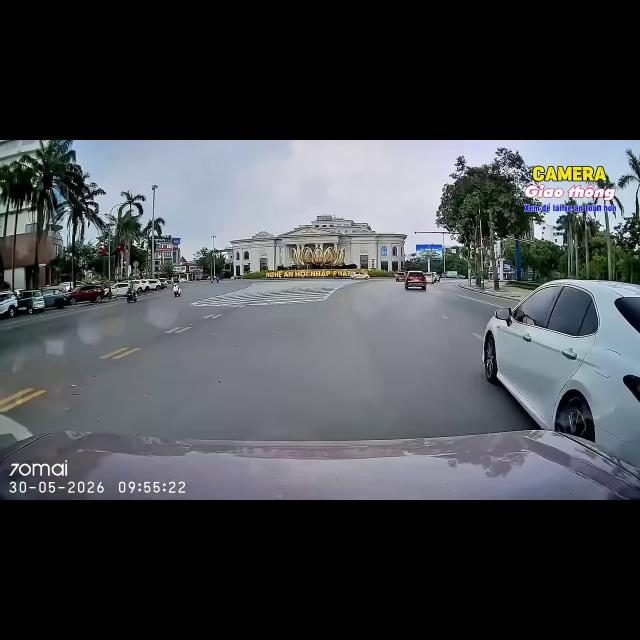car: (0, 430, 639, 499), (483, 280, 639, 463), (67, 285, 104, 304), (18, 290, 44, 314), (42, 287, 66, 308), (0, 291, 17, 317), (405, 271, 426, 290), (110, 282, 129, 297), (127, 280, 143, 293), (147, 279, 162, 290), (350, 271, 369, 279), (139, 279, 151, 291), (58, 282, 71, 292), (424, 272, 435, 283), (394, 271, 405, 281), (158, 278, 167, 288), (432, 272, 440, 282)
motorcycle: (126, 290, 137, 302), (173, 284, 180, 296), (210, 277, 219, 283), (174, 290, 180, 296), (174, 289, 179, 296), (334, 274, 341, 278), (178, 286, 181, 295), (210, 278, 214, 283), (216, 278, 219, 282)
truck: (446, 271, 457, 277)
